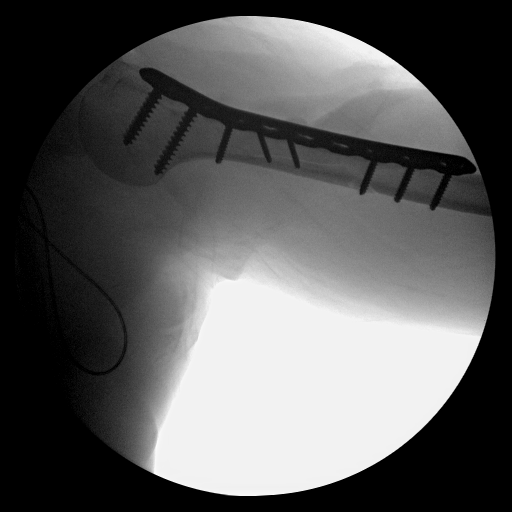implant: (124, 64, 235, 184), (359, 137, 450, 213), (249, 106, 301, 171)
